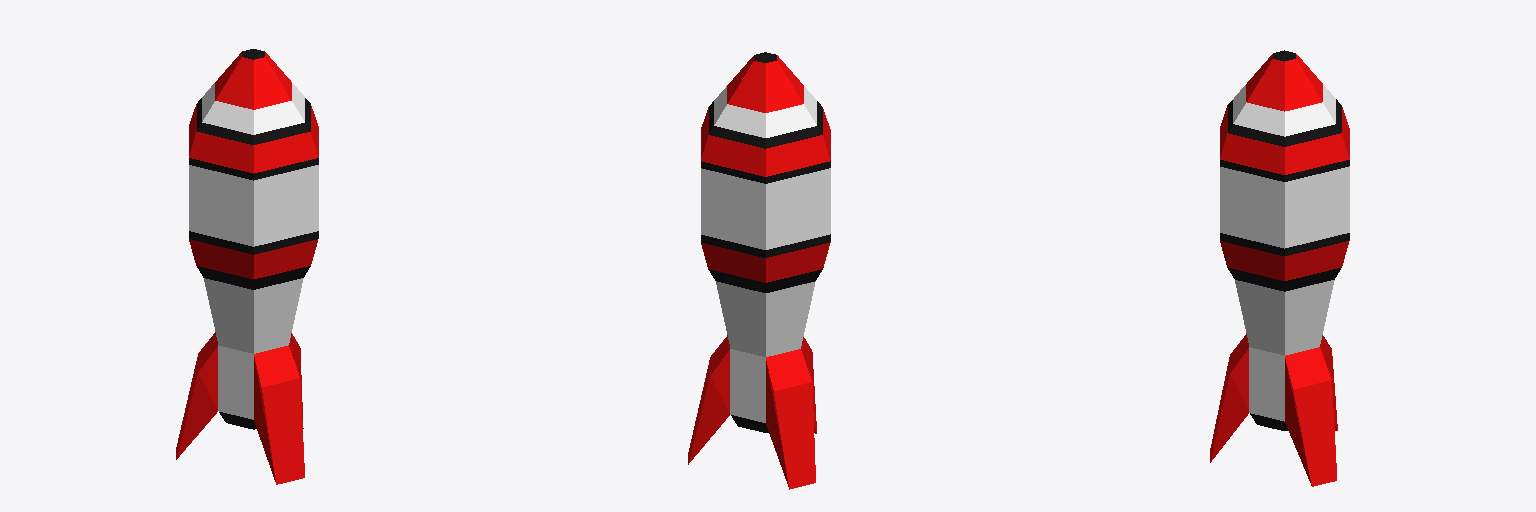
File: CS_Missile.obj
3 views of the same model, side by side, from view 1: azimuth 30°, elevation 25°; view 2: azimuth 150°, elevation 25°; view 3: azimuth 270°, elevation 25° (orthographic).
Visible parts, largest first — view 1: Missile; view 2: Missile; view 3: Missile.
Boxes of the visible parts, box(x1,y1,x2,y2) form: Missile: box(176, 49, 318, 484); Missile: box(688, 52, 830, 489); Missile: box(1210, 50, 1349, 486).
Size of the model in its own units: 1 by 2.94 by 0.9283.